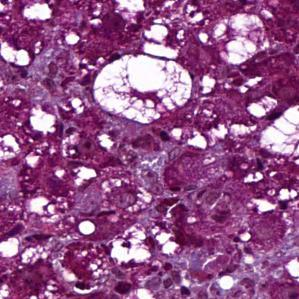ballooning: (92, 52, 195, 127), (212, 11, 273, 67), (258, 100, 299, 167)
